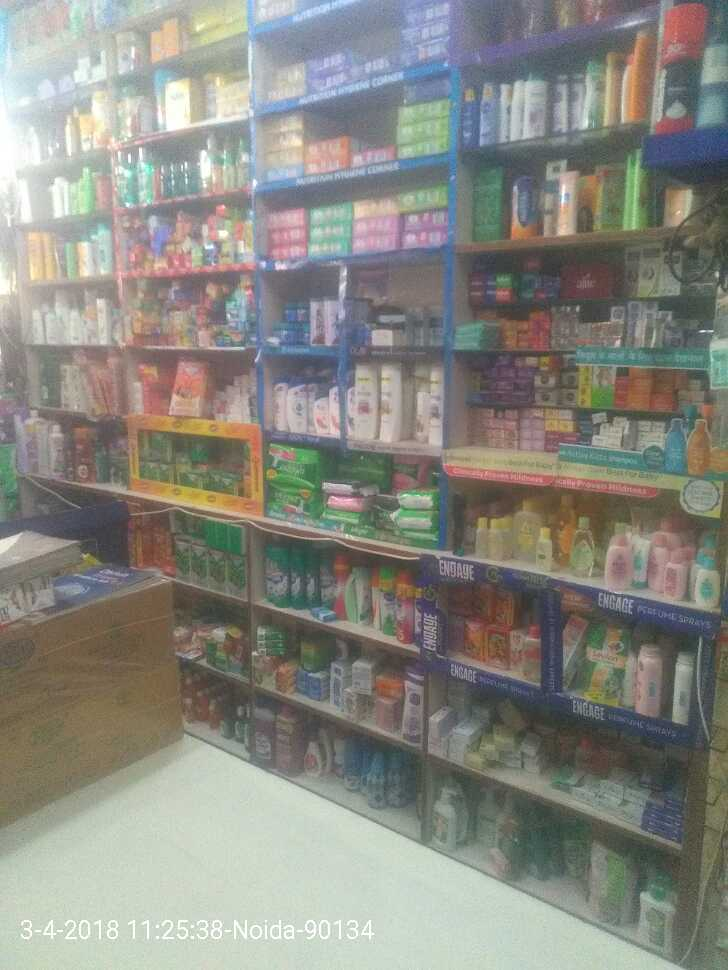vicks: (270, 287, 313, 350)
